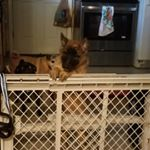puppy: (44, 31, 91, 86)
